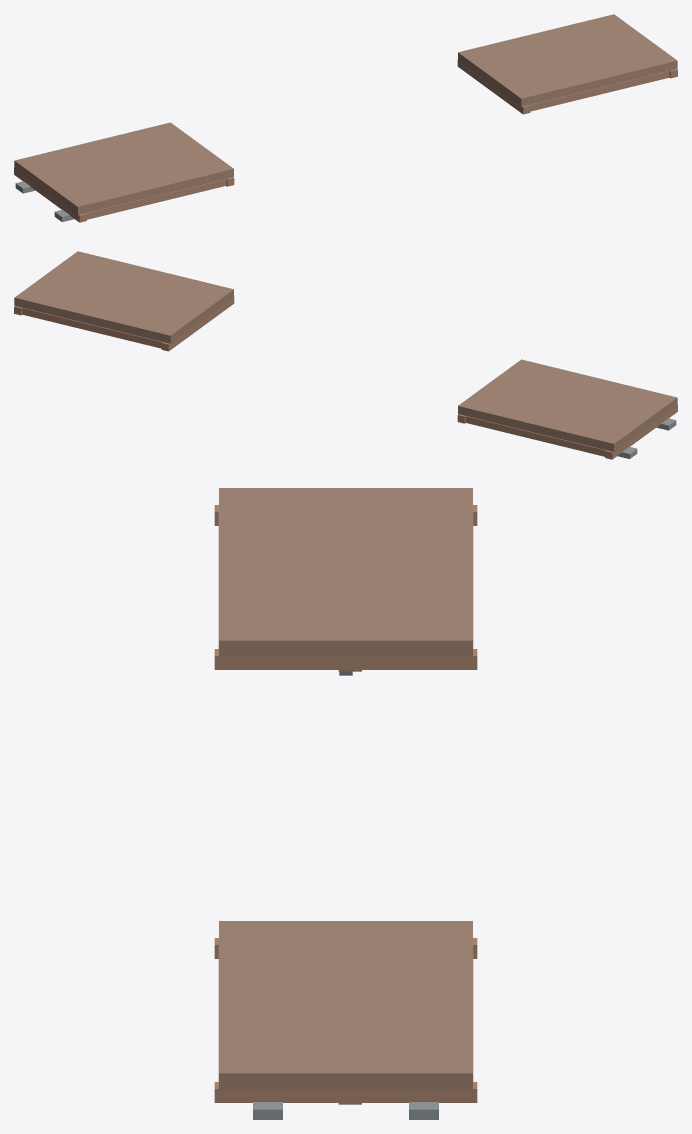
The model's file is 13_storm_shutters_stowed.glb.
3 views of the same model, one above another, from view 1: azimuth 30°, elevation 25°; view 2: azimuth 150°, elevation 25°; view 3: azimuth 270°, elevation 25° (orthographic). The views are drawn at different scales.
Visible parts, largest first — view 1: shutter_backing_0021, shutter_backing_0001, top_crossbar_0012, top_crossbar_0032, side_framing_0030, side_framing_0010; view 2: shutter_backing_0021, shutter_backing_0001, bottom_crossbar_0013, bottom_crossbar_0033, side_framing_0030, side_framing_0010; view 3: shutter_backing_0001, shutter_backing_0021, side_framing_0011, side_framing_0031.
Boxes of the visible parts, x1=… form: shutter_backing_0021: x1=458, y1=14, x2=677, y2=106; shutter_backing_0001: x1=14, y1=122, x2=233, y2=214; top_crossbar_0012: x1=86, y1=179, x2=226, y2=219; top_crossbar_0032: x1=530, y1=71, x2=669, y2=111; side_framing_0030: x1=457, y1=59, x2=530, y2=114; side_framing_0010: x1=14, y1=168, x2=86, y2=222; shutter_backing_0021: x1=14, y1=251, x2=233, y2=343; shutter_backing_0001: x1=458, y1=359, x2=677, y2=451; bottom_crossbar_0013: x1=465, y1=416, x2=605, y2=456; bottom_crossbar_0033: x1=22, y1=308, x2=161, y2=348; side_framing_0030: x1=161, y1=296, x2=234, y2=351; side_framing_0010: x1=605, y1=405, x2=677, y2=459; shutter_backing_0001: x1=219, y1=488, x2=472, y2=656; shutter_backing_0021: x1=219, y1=921, x2=472, y2=1089; side_framing_0011: x1=214, y1=649, x2=477, y2=669; side_framing_0031: x1=214, y1=1082, x2=477, y2=1102.
Bounding box in the file's own units: 6.37 × 0.2385 × 1.18.
